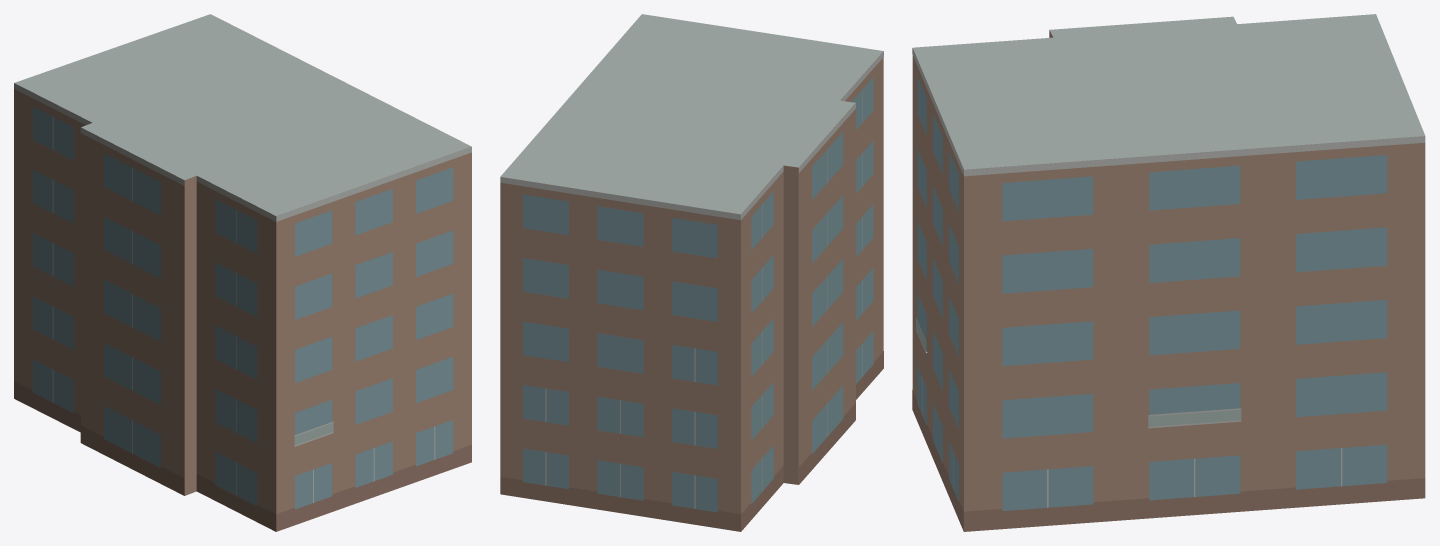
The model's file is survey-upis-32631814.glb.
The picture shows the model from 3 angles, left to right: view 1: azimuth 30°, elevation 25°; view 2: azimuth 150°, elevation 25°; view 3: azimuth 270°, elevation 25°; orthographic projection. The views are drawn at different scales.
Parts seen in each view (by area): view 1: survey-upis-32631814.tmp; view 2: survey-upis-32631814.tmp; view 3: survey-upis-32631814.tmp.
Boxes of the visible parts, x1,y1,x2,y2 form: survey-upis-32631814.tmp: (14,14,471,531); survey-upis-32631814.tmp: (500,14,883,531); survey-upis-32631814.tmp: (912,14,1425,531).
Bounding box in the file's own units: 12.27 × 13.3 × 17.08.
